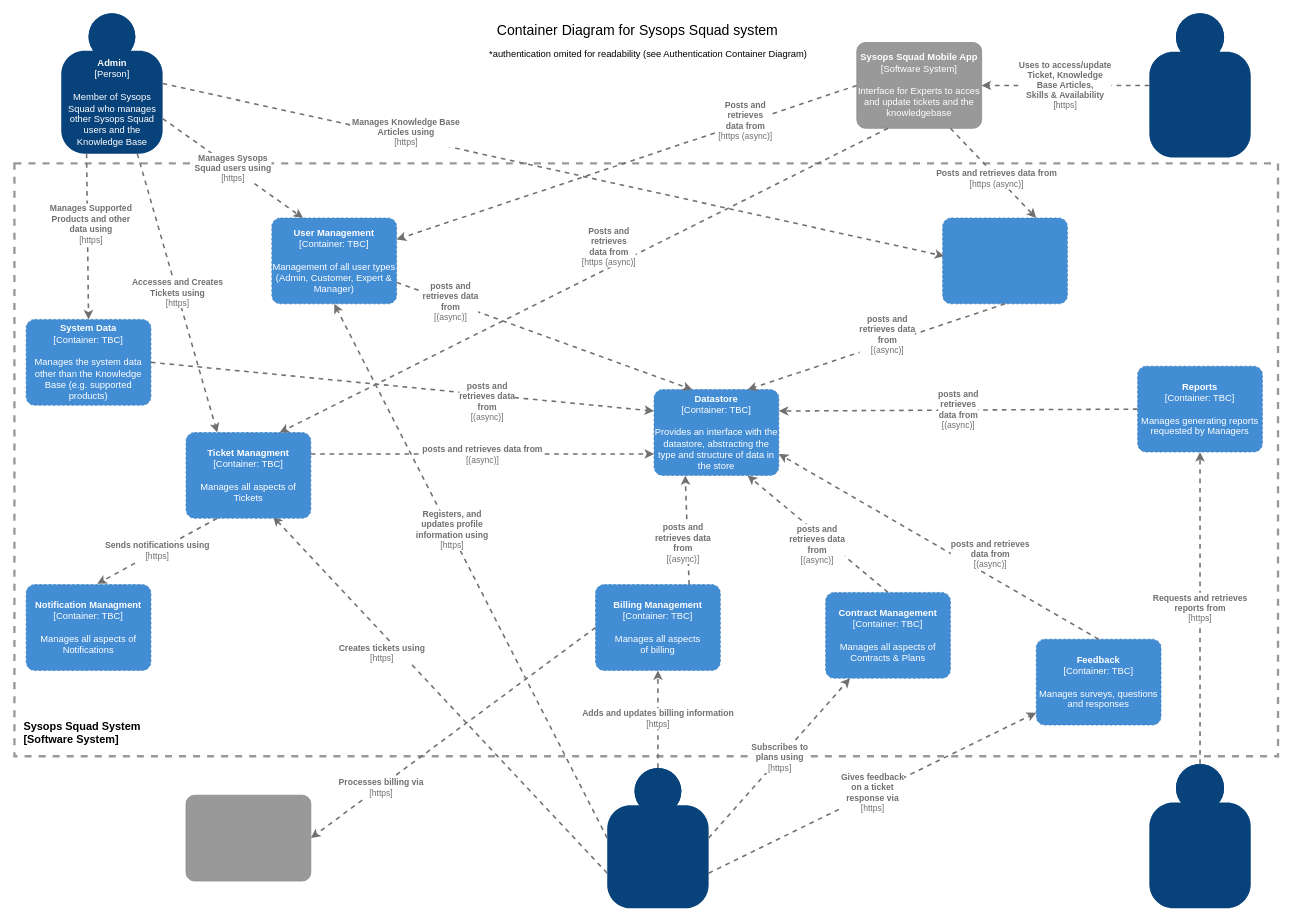
The diagram is 1292 pixels wide and 922 high, and some of its shapes have lost their labels. The shapes that lost their labels are listed below. From the top down, each one's centre as x and y in pixels, then its label:
At point (1199, 85): "Expert [Person] Member of Sysops Squad who acts on tickets".
At point (1004, 260): "Knowledge [Container: TBC] Manages the Knowledge Base".
At point (248, 837): "Penultimate Electronics [Software System] PE system for selling goods".
At point (657, 838): "Customer [Person] A customer of Penultimate Electronics".
At point (1199, 836): "Manager [Person] Member of Sysops Squad who requests and acts on reports".
